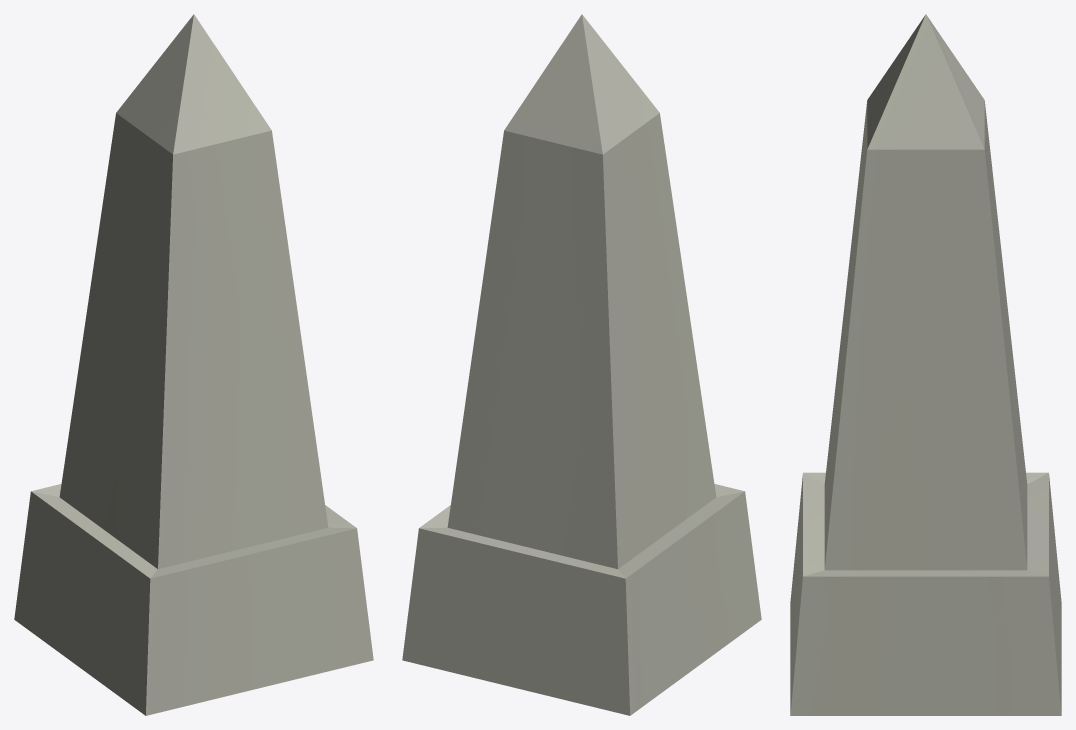
The model's file is mogila4.fbx.
The picture shows the model from 3 angles, left to right: view 1: azimuth 30°, elevation 25°; view 2: azimuth 150°, elevation 25°; view 3: azimuth 270°, elevation 25°; orthographic projection. The views are drawn at different scales.
Visible parts, largest first — view 1: Cube.084; view 2: Cube.084; view 3: Cube.084.
Boxes of the visible parts, box(x1,y1,x2,y2) form: Cube.084: box(14, 14, 373, 715); Cube.084: box(402, 14, 761, 715); Cube.084: box(790, 14, 1061, 715).
Bounding box in the file's own units: 128 × 337 × 128.
